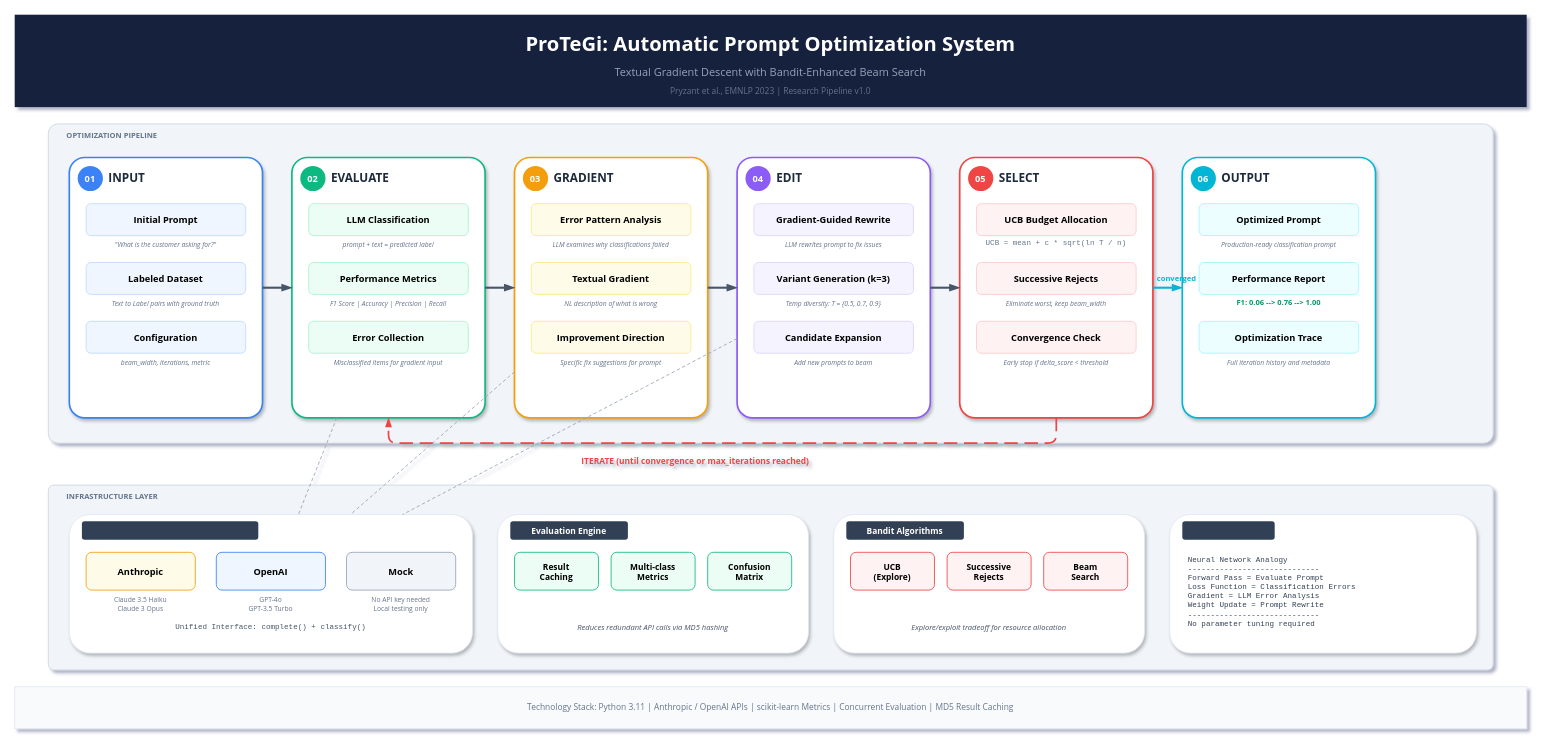
This 1546x748 diagram has some shape labels left out. The shapes that lost their labels are listed below. From the top down, each one's centre as x and y in pixels, then its label:
[169,530]: LLM Provider Abstraction Layer
[1228,530]: Key Innovation
